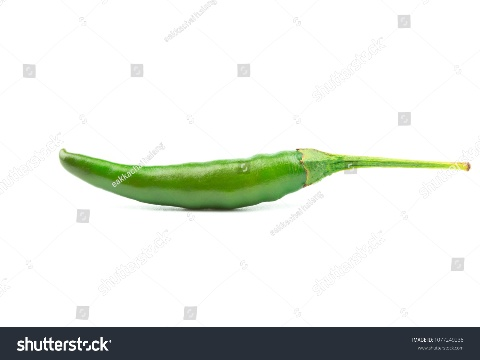Chilli: (46, 129, 473, 231)
